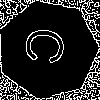C: (23, 25, 76, 69)
